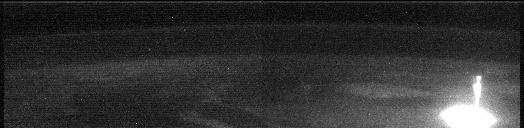positive: (470, 73, 484, 108)
